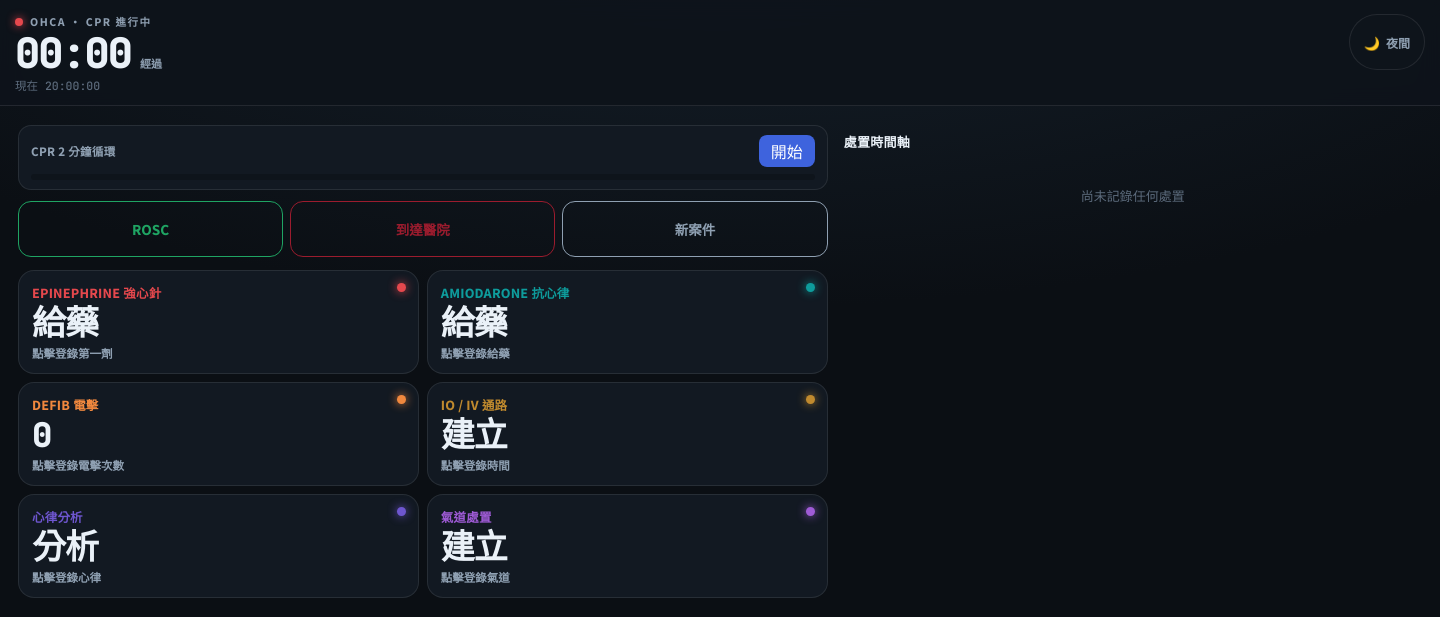
Test: App — US1 elapsed clock & CPR › starts a CPR cycle and warns near the end (FR-002)
The image size is (1440, 617).
Click the button "開始". click: (787, 151)
box: [759, 135, 815, 167]
Wait 110000 ms
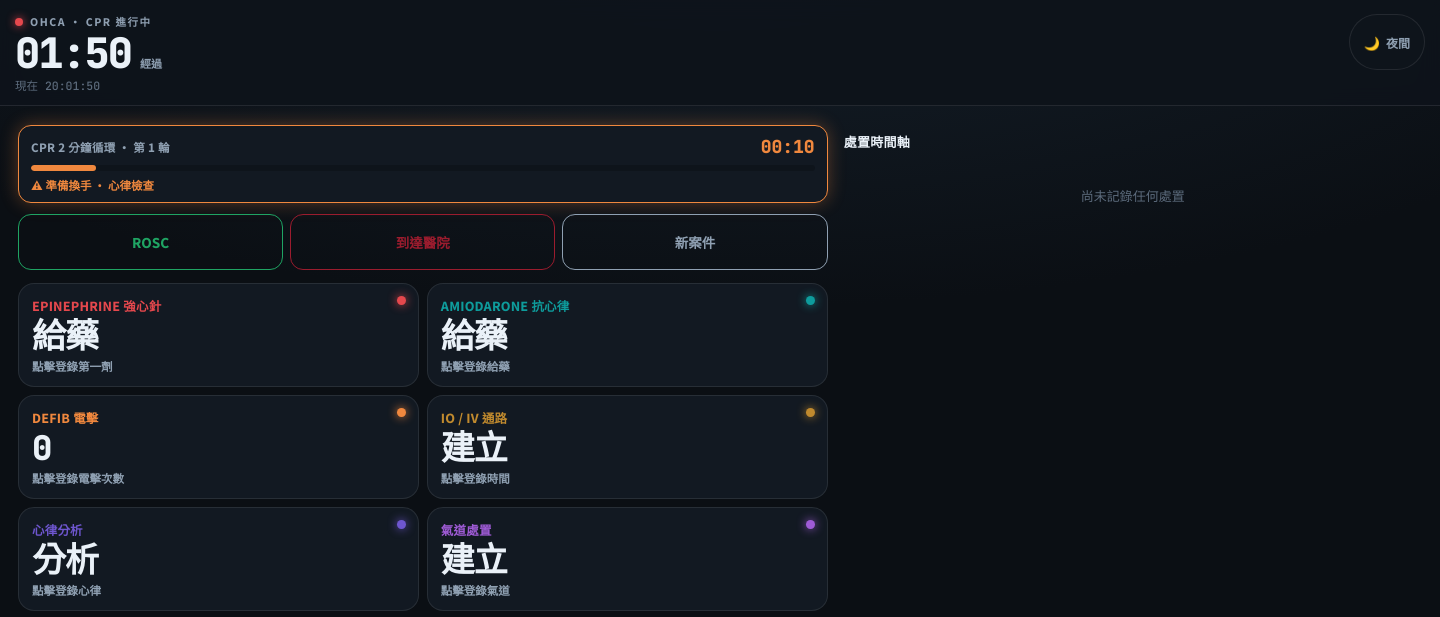
Now the text "CPR 2 分鐘循環 · 第 1 輪" is shown, box [31, 138, 170, 154]
Now the text "⚠ 準備換手 · 心律檢查" is shown, box [31, 177, 154, 193]
